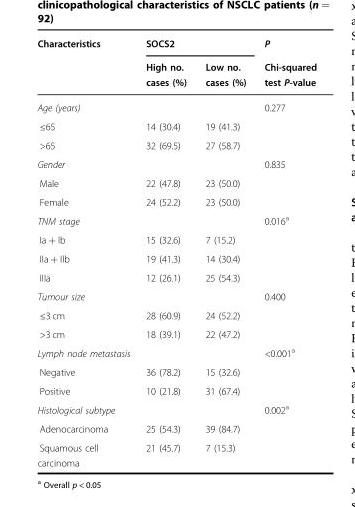table: (36, 37, 315, 468)
table column: (36, 37, 137, 468), (254, 37, 315, 468), (195, 37, 254, 468), (137, 37, 195, 468)
table column header: (36, 37, 315, 94)
table row: (36, 54, 315, 94), (36, 437, 315, 468), (36, 94, 315, 116), (36, 342, 315, 362), (36, 399, 315, 419), (36, 116, 315, 135), (36, 135, 315, 154), (36, 154, 315, 173), (36, 173, 315, 192), (36, 210, 315, 229), (36, 229, 315, 248), (36, 248, 315, 267), (36, 267, 315, 286), (36, 286, 315, 305), (36, 305, 315, 324), (36, 362, 315, 381), (36, 192, 315, 210), (36, 324, 315, 342), (36, 381, 315, 399), (36, 419, 315, 437), (36, 37, 315, 54)
table spanning cell: (36, 37, 137, 94), (254, 37, 315, 94), (137, 37, 254, 54)
